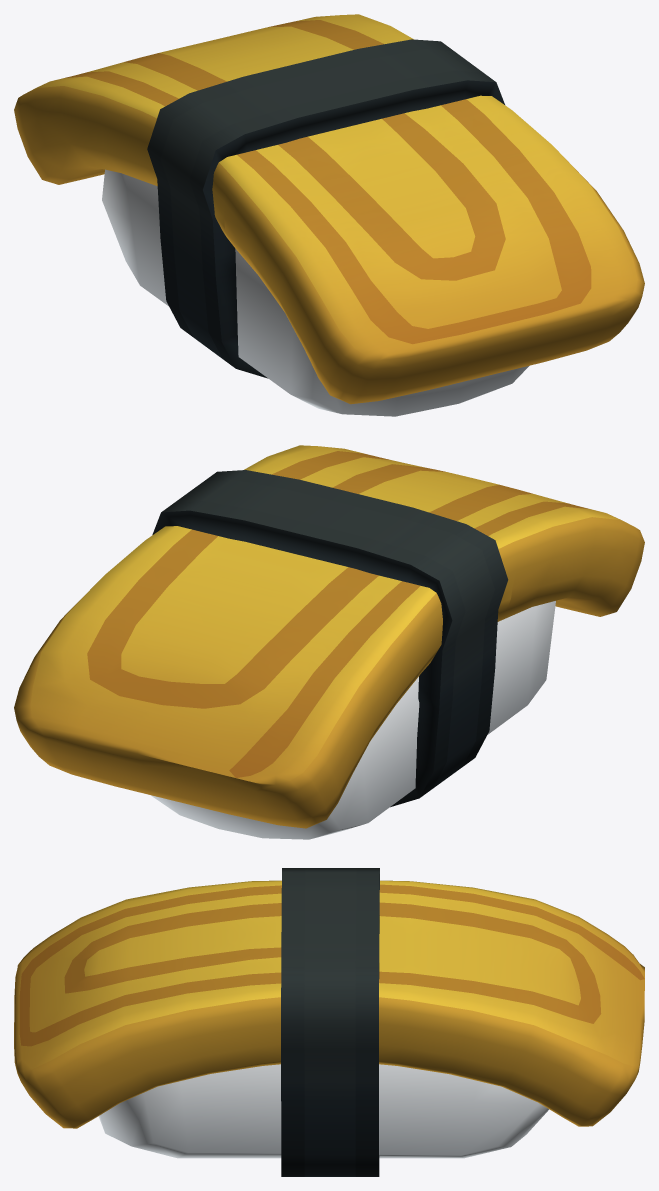
Rendered from sushi_yellow.fbx.
3 renders of one model, top to bottom at view 1: azimuth 30°, elevation 25°; view 2: azimuth 150°, elevation 25°; view 3: azimuth 270°, elevation 25°, orthographic. The views are drawn at different scales.
Visible parts, largest first — view 1: sushi_yellow; view 2: sushi_yellow; view 3: sushi_yellow.
Part boxes in pixels (box(x1,y1,x2,y2)): sushi_yellow: box(14, 14, 644, 416); sushi_yellow: box(14, 445, 644, 839); sushi_yellow: box(14, 868, 644, 1176).
Bounding box in the file's own units: 1.01 × 0.7778 × 1.98.
